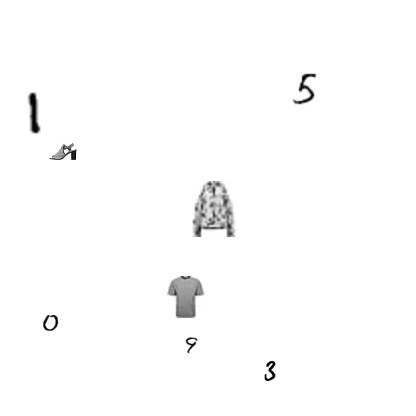0: (39, 311, 61, 333)
1: (4, 85, 60, 141)
3: (256, 357, 284, 385)
5: (284, 68, 326, 110)
9: (180, 332, 202, 354)
Sandal: (49, 137, 77, 165)
Shirt: (185, 181, 241, 237)
T-shirt/top: (164, 276, 206, 318)
